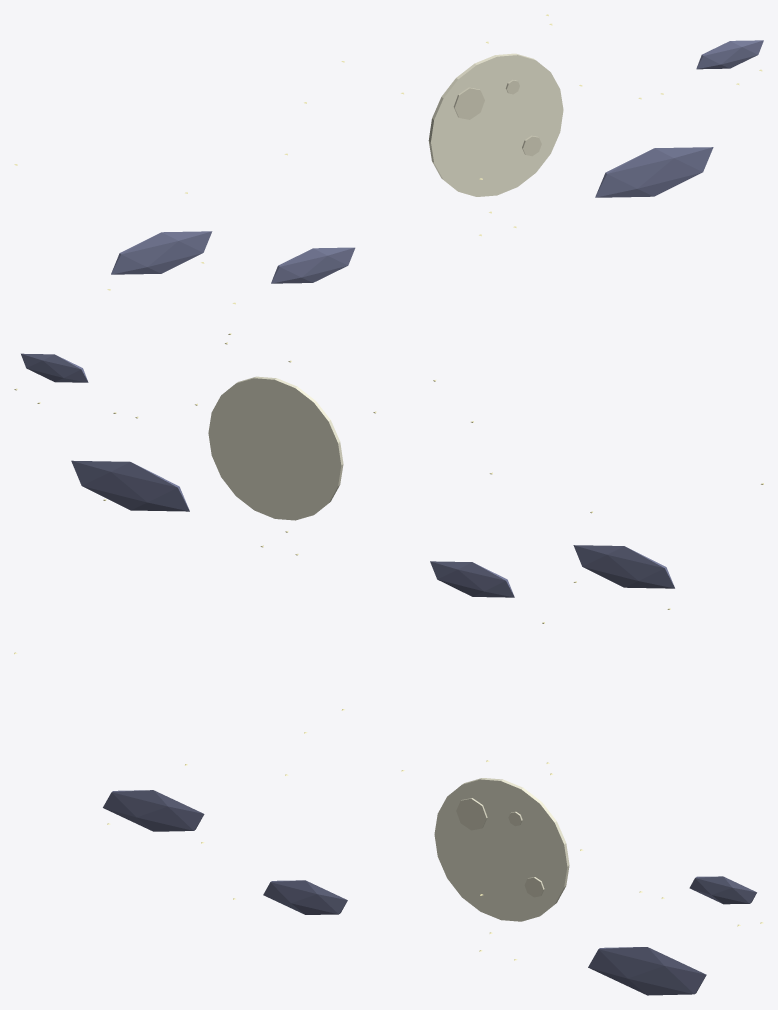
Rendered from BG_Moon.fbx.
The picture shows the model from 3 angles, top to bottom: view 1: azimuth 30°, elevation 25°; view 2: azimuth 150°, elevation 25°; view 3: azimuth 330°, elevation 25°; orthographic projection.
Visible parts, largest first — view 1: BG_Moon; view 2: BG_Moon; view 3: BG_Moon.
Boxes of the visible parts, <box> form: BG_Moon: <box>14,14,763,304</box>; BG_Moon: <box>14,333,763,623</box>; BG_Moon: <box>14,652,763,995</box>.
Size of the model in its own units: 39.48 by 10.9 by 0.8276.
